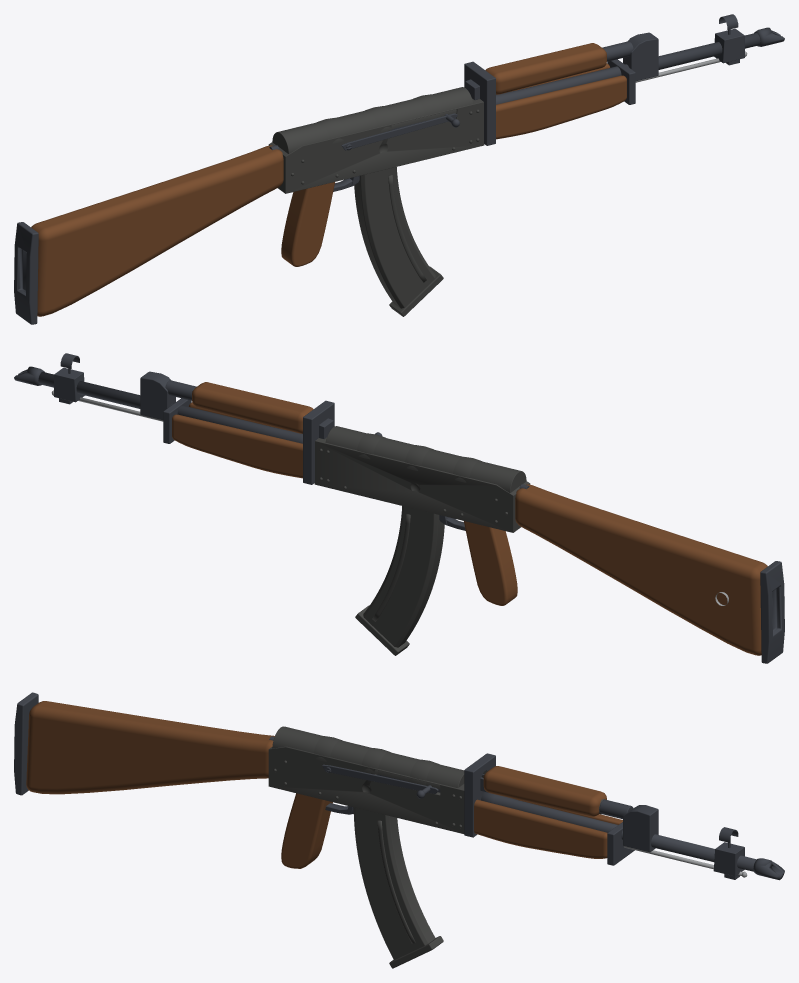
3 views of the same model, one above another, from view 1: azimuth 30°, elevation 25°; view 2: azimuth 150°, elevation 25°; view 3: azimuth 330°, elevation 25° (orthographic).
Visible parts, largest first — view 1: body-birch, body-parker, body-blued, magazine-parker, selector-blued; view 2: body-birch, body-parker, body-blued, magazine-parker; view 3: body-birch, body-parker, body-blued, magazine-parker, selector-blued.
Part boxes in pixels (bbox=[...]): body-birch: bbox=[31, 43, 626, 316]; body-parker: bbox=[268, 87, 484, 193]; body-blued: bbox=[14, 14, 784, 324]; magazine-parker: bbox=[354, 167, 443, 316]; selector-blued: bbox=[341, 113, 457, 150]; body-birch: bbox=[172, 382, 767, 655]; body-parker: bbox=[314, 426, 530, 532]; body-blued: bbox=[14, 353, 784, 663]; magazine-parker: bbox=[355, 506, 444, 655]; body-birch: bbox=[26, 701, 622, 868]; body-parker: bbox=[268, 726, 604, 833]; body-blued: bbox=[14, 692, 784, 880]; magazine-parker: bbox=[353, 807, 443, 968]; selector-blued: bbox=[322, 764, 438, 793].
Bounding box in the file's own units: 1.11 × 0.3093 × 0.0784.
